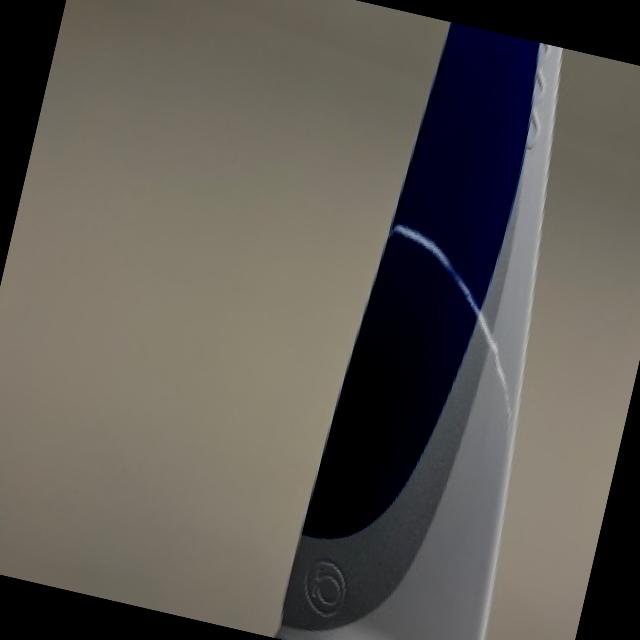healthy: (278, 25, 558, 640)
